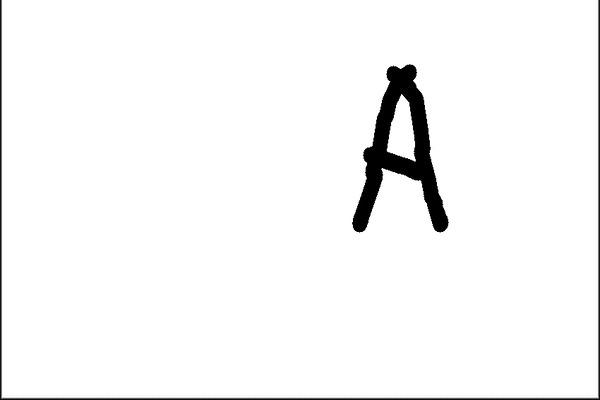A: (339, 57, 453, 238)
